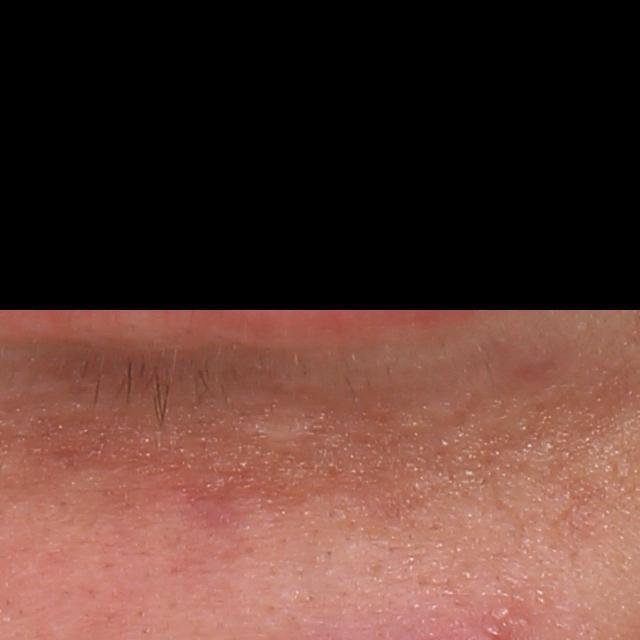hypertrophic_scar: (225, 411, 325, 456)
